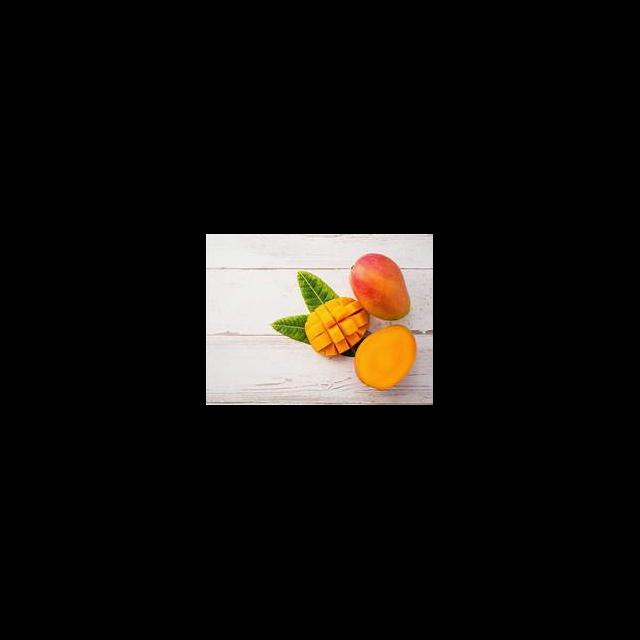mango: (350, 252, 412, 322), (354, 326, 418, 390)
